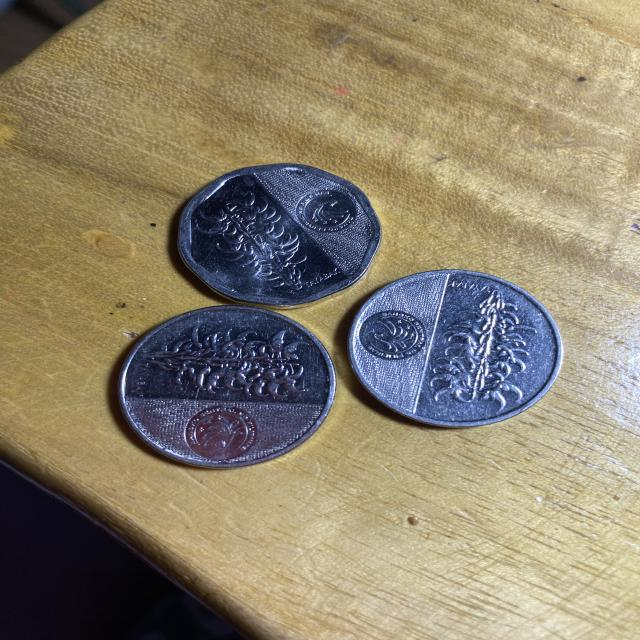5_New_Back: (189, 199, 326, 291), (431, 289, 532, 413), (151, 327, 304, 395)
